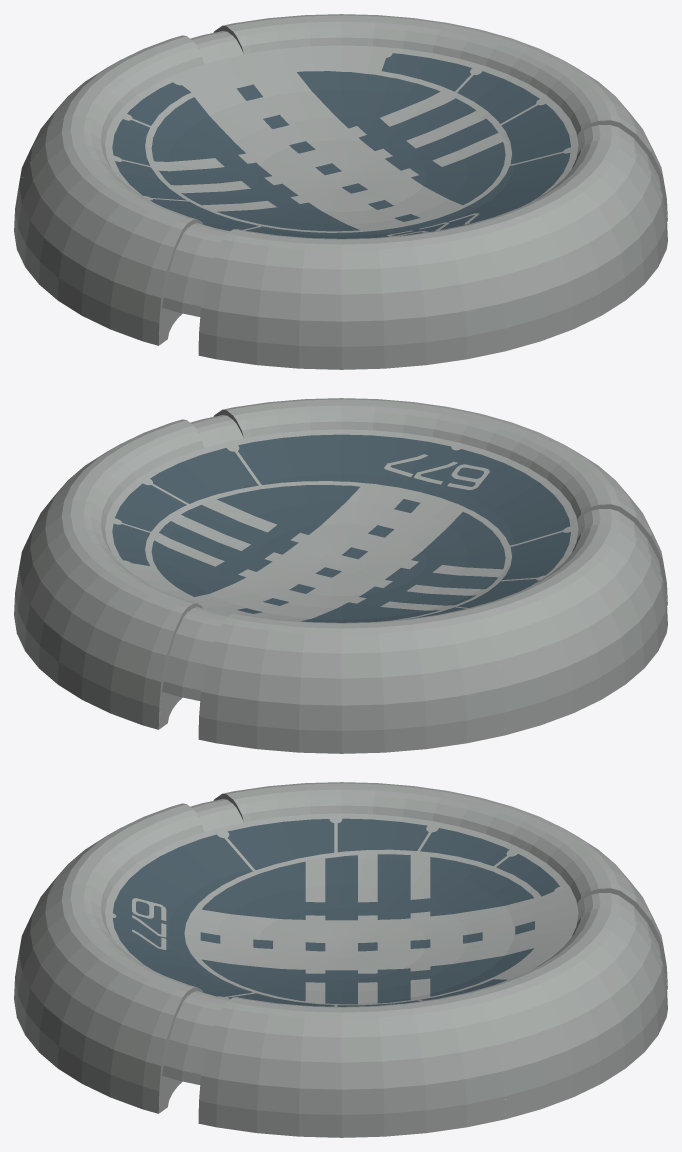
3 renders of one model, top to bottom at view 1: azimuth 30°, elevation 25°; view 2: azimuth 150°, elevation 25°; view 3: azimuth 270°, elevation 25°, orthographic.
Parts seen in each view (by area): view 1: world; view 2: world; view 3: world.
Part boxes in pixels (box(x1,y1,x2,y2)): world: box(14, 14, 667, 369); world: box(14, 398, 667, 753); world: box(14, 782, 667, 1137).
Size of the model in its own units: 0.04 by 0.00683 by 0.0399.
